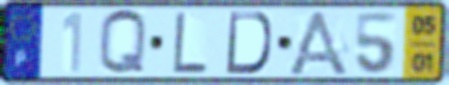1: (61, 11, 84, 74)
5: (353, 9, 398, 76)
A: (283, 7, 353, 78)
D: (223, 10, 274, 76)
L: (171, 10, 209, 76)
Q: (96, 7, 149, 78)
